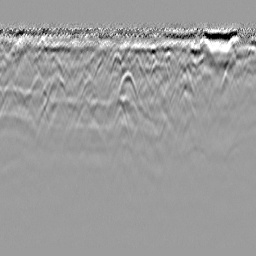cavity: (115, 68, 141, 110)
